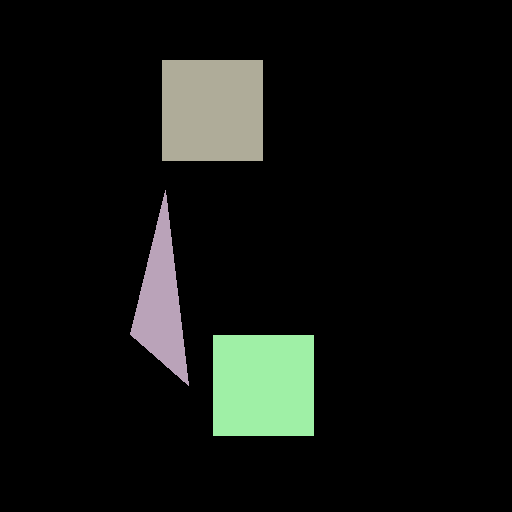square: (213, 335, 313, 435), (162, 60, 262, 160)
triangle: (130, 190, 188, 385)
